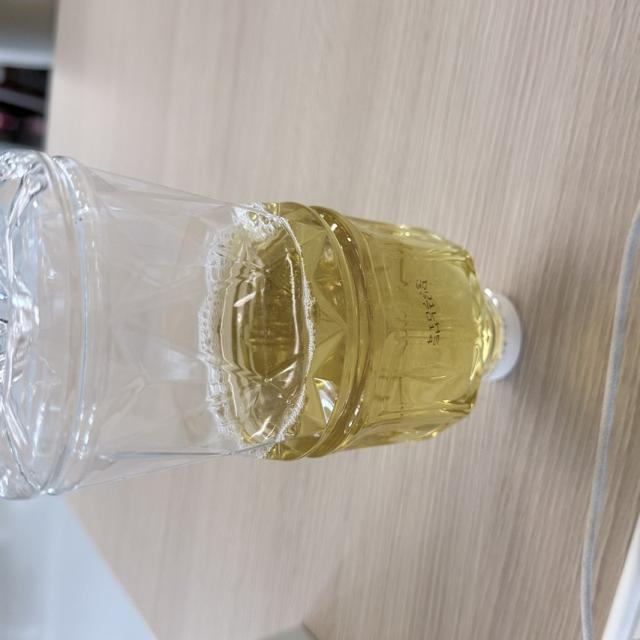medium: (0, 150, 521, 497)
